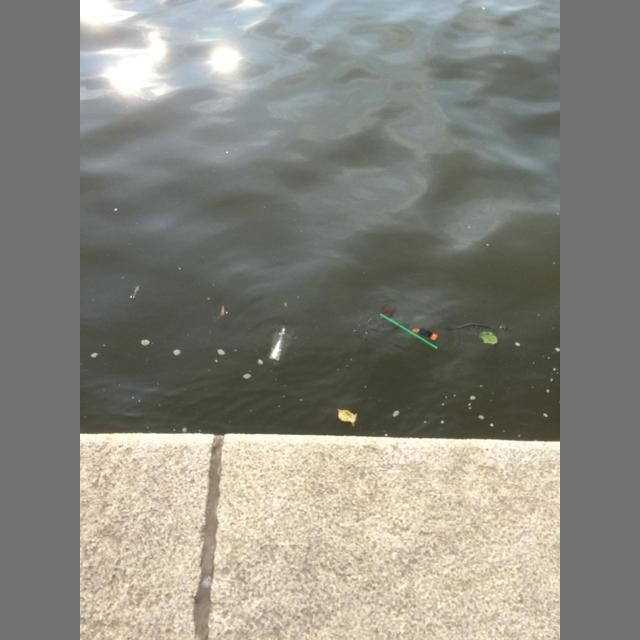litter: (379, 313, 438, 349), (268, 325, 294, 363), (412, 328, 437, 340)
